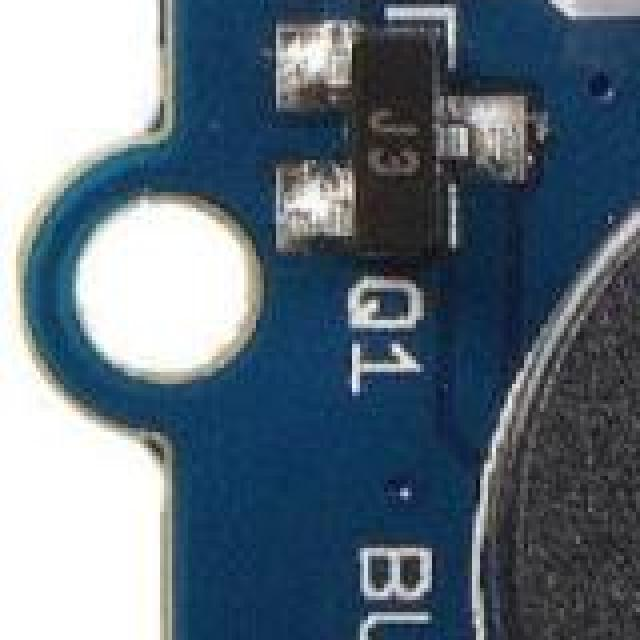buzzer: (512, 104, 640, 640)
connector: (524, 0, 640, 20)
transistor: (256, 0, 532, 240)
